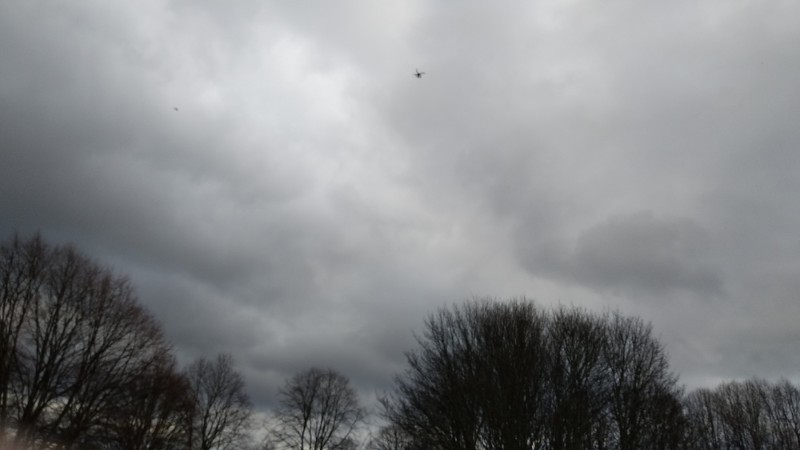drone: (413, 69, 426, 80)
